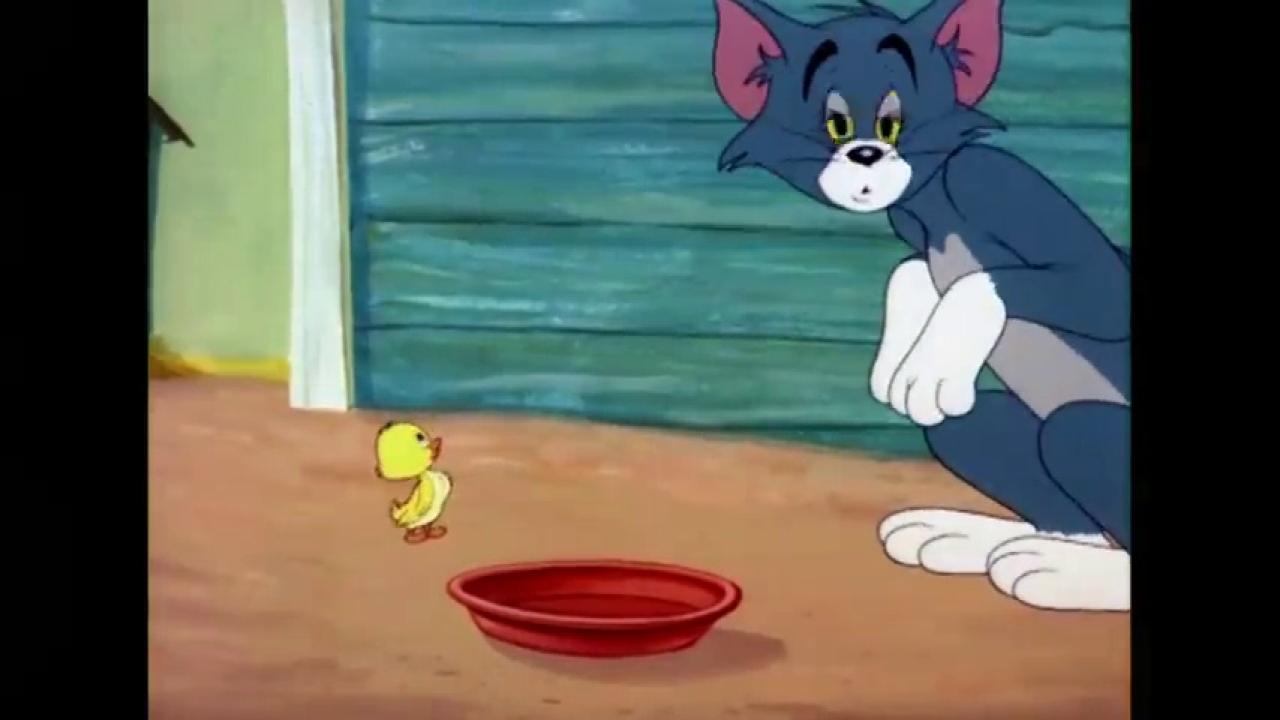Tom: (710, 0, 1130, 612)
